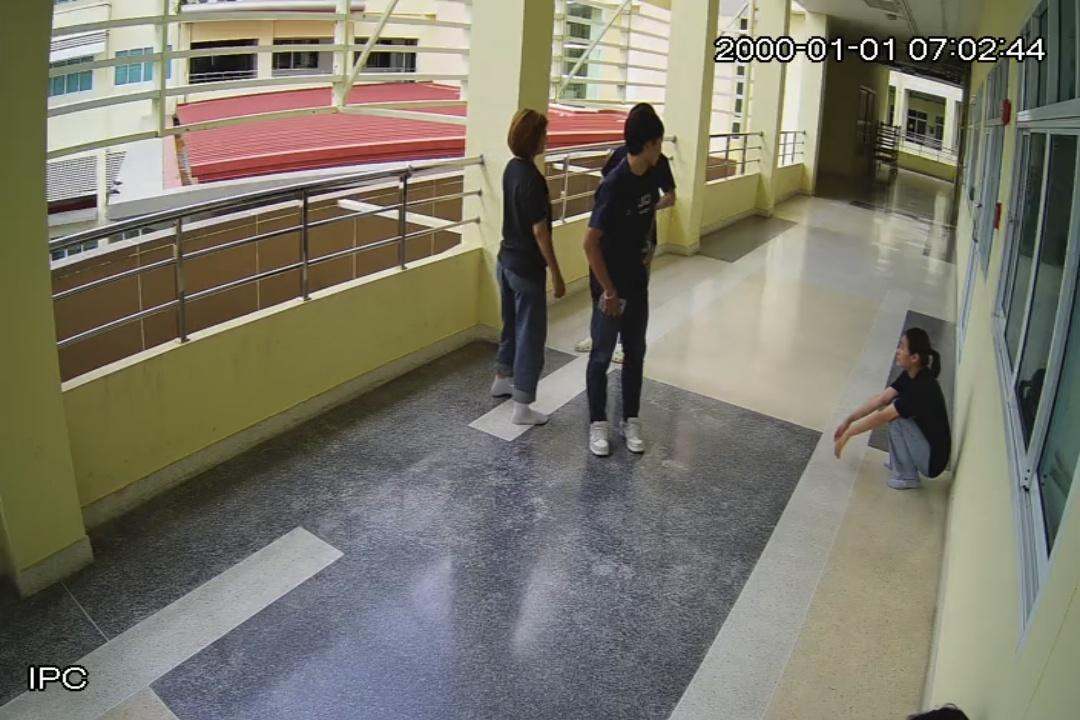normal: (586, 110, 659, 458), (488, 99, 565, 427), (836, 328, 948, 487)
